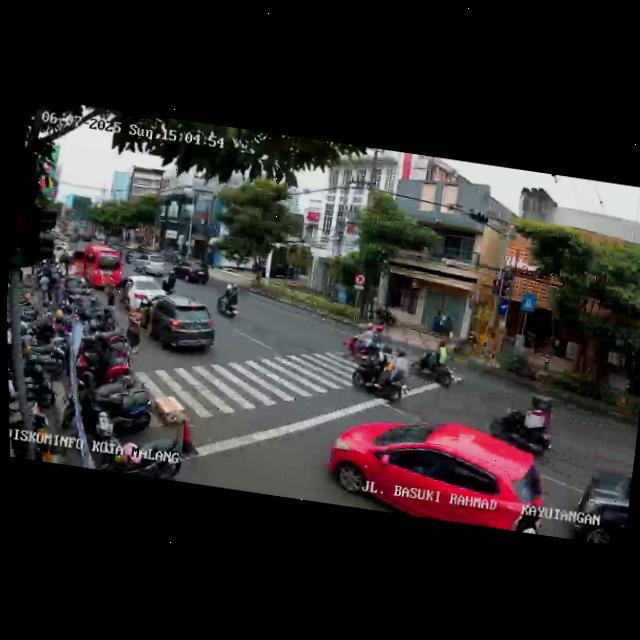car: (321, 405, 554, 535), (568, 454, 634, 548), (137, 294, 221, 361), (66, 239, 125, 293), (120, 273, 169, 314), (132, 251, 180, 283), (173, 258, 210, 289)
motorcycle: (489, 390, 562, 458), (348, 338, 418, 404), (409, 336, 462, 391), (340, 318, 389, 366), (214, 280, 243, 319), (160, 268, 178, 296)
person: (123, 304, 148, 357)
